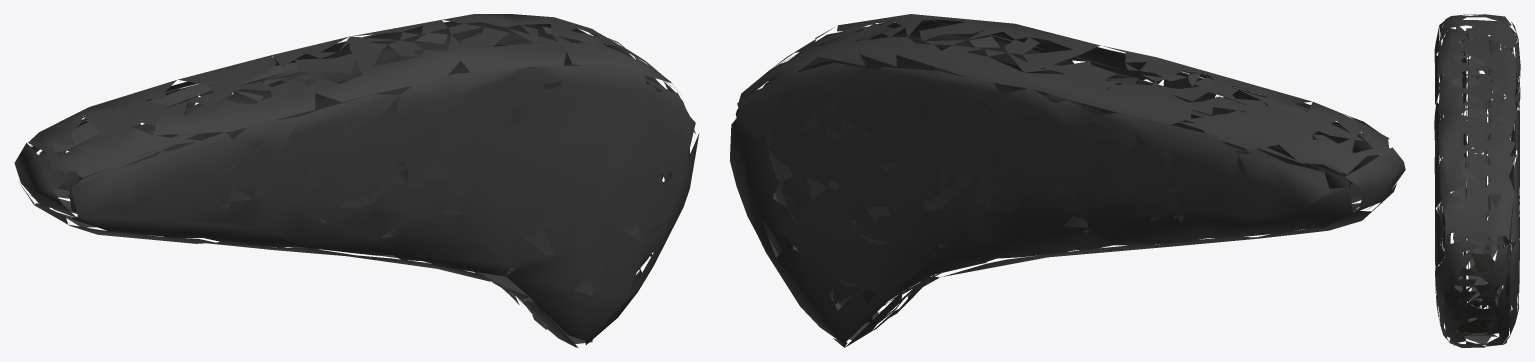
The model's file is pincer.glb.
3 views of the same model, side by side, from view 1: azimuth 30°, elevation 25°; view 2: azimuth 150°, elevation 25°; view 3: azimuth 270°, elevation 25° (orthographic). The views are drawn at different scales.
Size of the model in its own units: 0.0349 by 0.0172 by 0.00682.
1 material, 1 textured.
